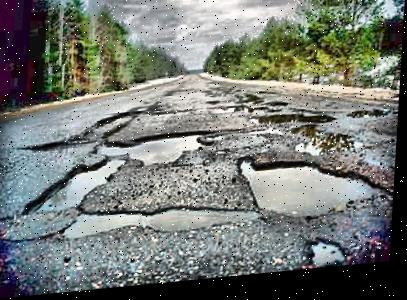pothole: (234, 147, 398, 232), (62, 197, 261, 247), (22, 159, 130, 217), (95, 134, 216, 175), (290, 125, 364, 164), (86, 110, 145, 144), (249, 112, 339, 134), (310, 239, 352, 274), (212, 105, 274, 124), (29, 139, 69, 154), (348, 113, 393, 126)
